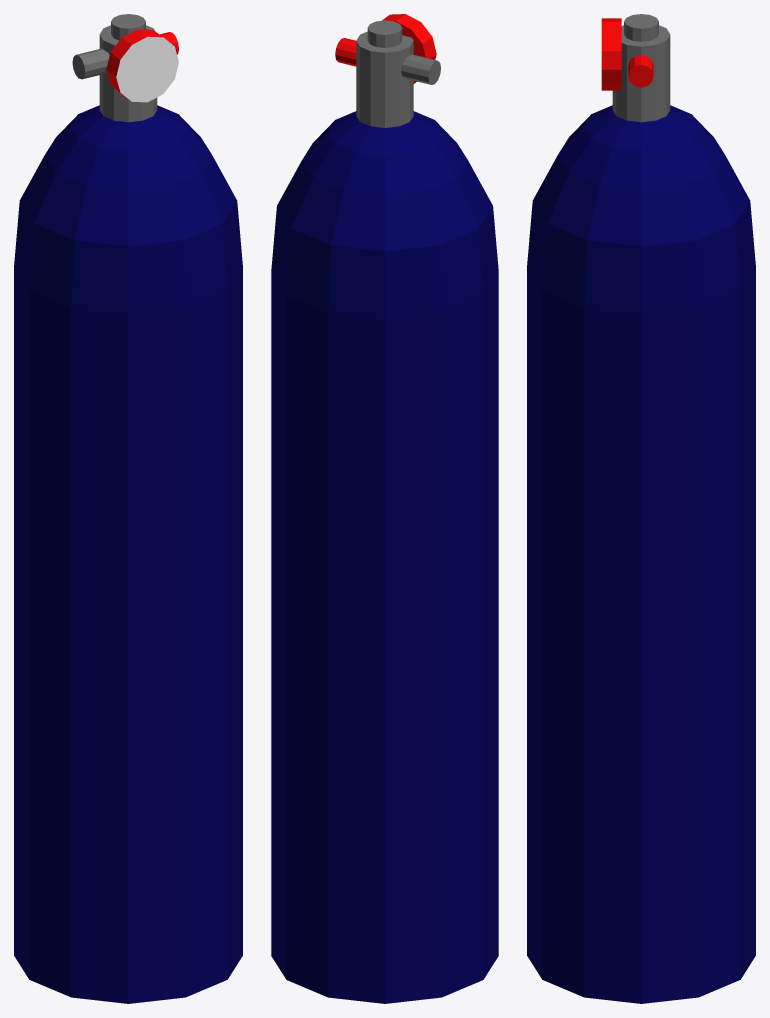
The model's file is Prop_Industrial_Gas_Cylinder_01.FBX.
3 renders of one model, left to right at view 1: azimuth 30°, elevation 25°; view 2: azimuth 150°, elevation 25°; view 3: azimuth 270°, elevation 25°, orthographic.
Visible parts, largest first — view 1: Prop_Industrial_Gas_Cylinder_01; view 2: Prop_Industrial_Gas_Cylinder_01; view 3: Prop_Industrial_Gas_Cylinder_01.
Part boxes in pixels (x1,y1,x2,y2): Prop_Industrial_Gas_Cylinder_01: [14, 14, 242, 1003]; Prop_Industrial_Gas_Cylinder_01: [271, 14, 498, 1003]; Prop_Industrial_Gas_Cylinder_01: [527, 14, 755, 1003].
Size of the model in its own units: 278 by 1251 by 278.
